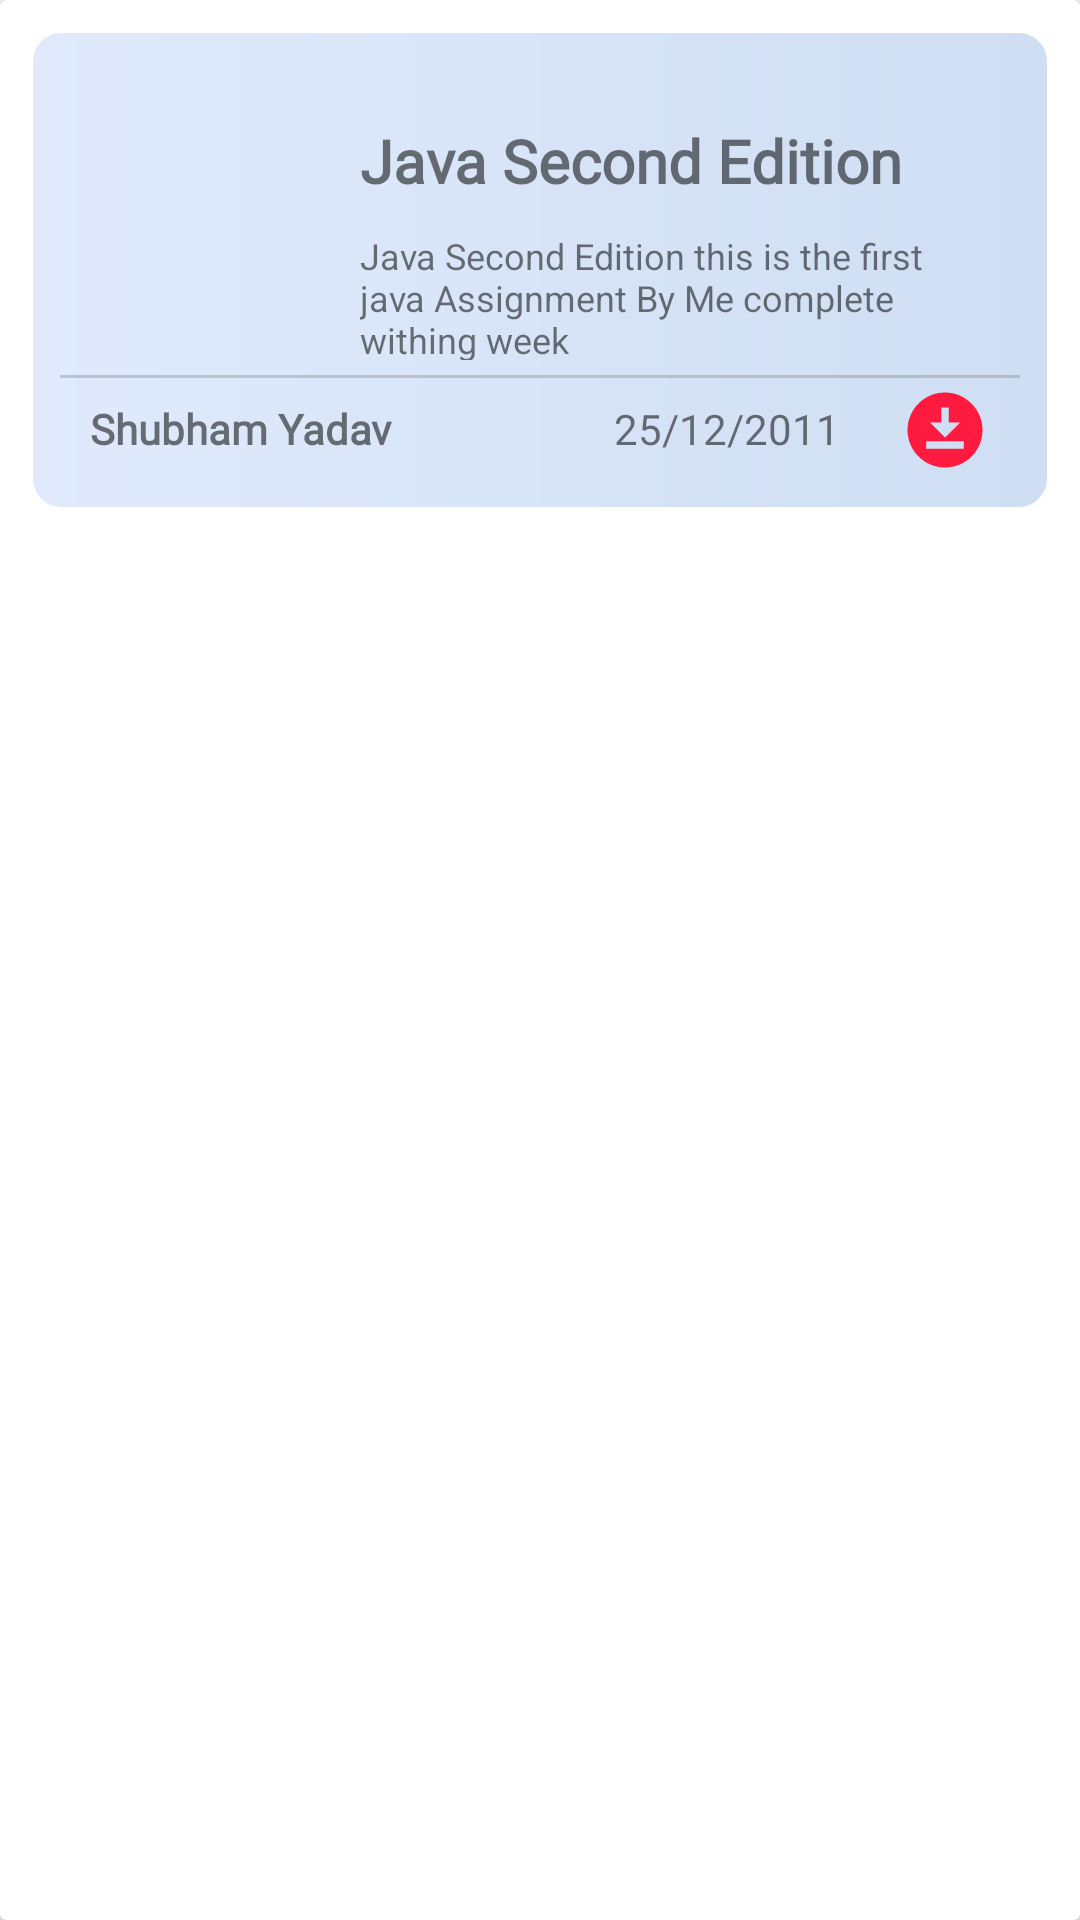

Screen size 1080*1920. Icon name, then its box in pixels as bbox(x1, y1, x2, y2):
download: bbox(907, 392, 983, 468)
